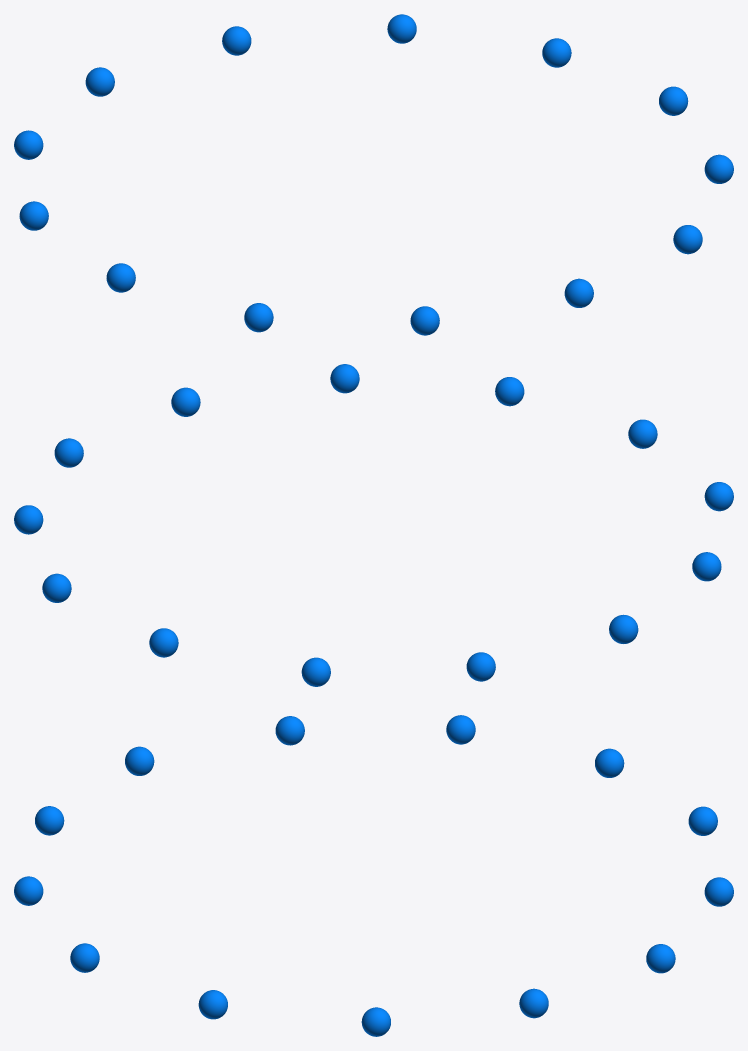
The picture shows the model from 3 angles, top to bottom: view 1: azimuth 30°, elevation 25°; view 2: azimuth 150°, elevation 25°; view 3: azimuth 270°, elevation 25°; orthographic projection.
Parts seen in each view (by area): view 1: Sphere052; view 2: Sphere052; view 3: Sphere052.
Boxes of the visible parts, box(x1,y1,x2,y2) form: Sphere052: box(14, 14, 733, 335); Sphere052: box(14, 364, 733, 686); Sphere052: box(14, 715, 733, 1036).
Bounding box in the file's own units: 201 × 8.22 × 201.
